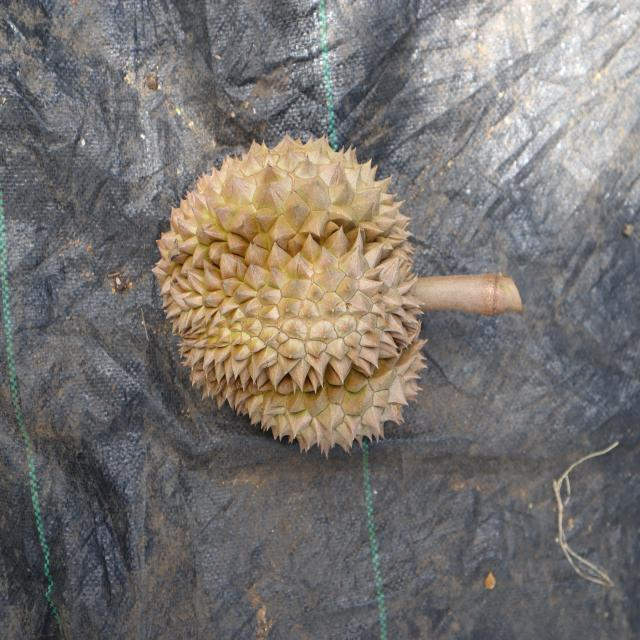mature: (150, 131, 430, 459)
